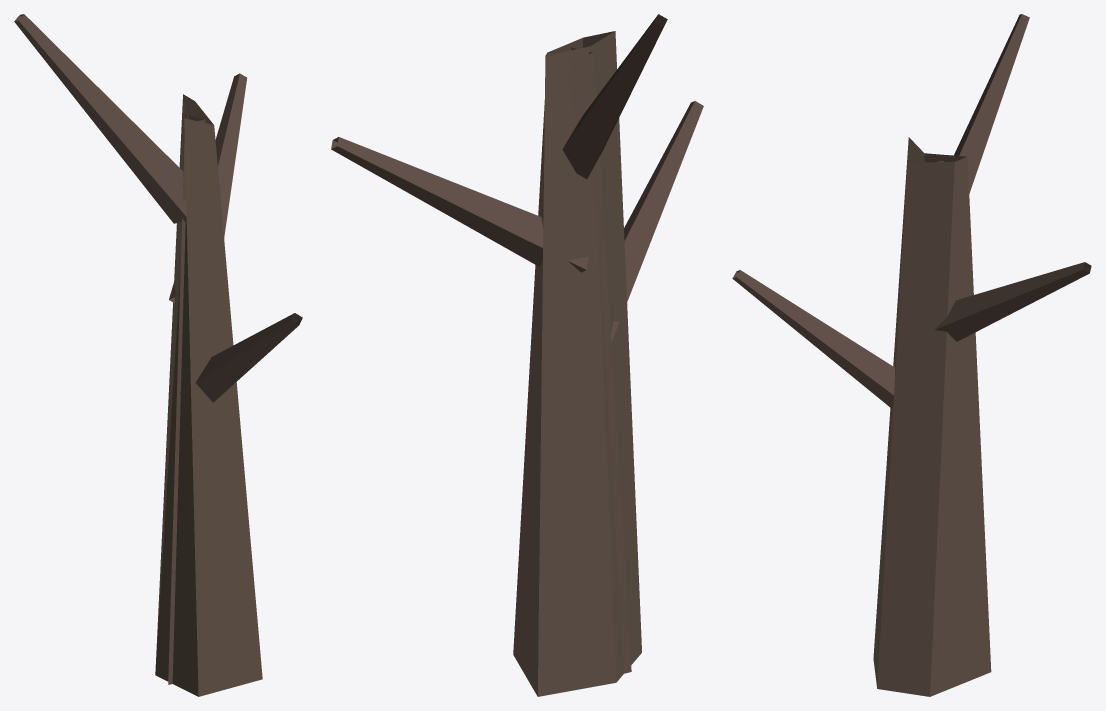
Rendered from tree_dead.glb.
3 views of the same model, side by side, from view 1: azimuth 30°, elevation 25°; view 2: azimuth 150°, elevation 25°; view 3: azimuth 270°, elevation 25° (orthographic). The views are drawn at different scales.
Visible parts, largest first — view 1: trunk, branch2, branch0, branch1, far; view 2: trunk, branch1, far, branch2, branch0; view 3: trunk, branch0, branch1, branch2.
Boxes of the visible parts, box(x1,y1,x2,y2) form: trunk: box(155, 94, 262, 696); branch2: box(14, 14, 186, 223); branch0: box(171, 313, 302, 402); branch1: box(169, 73, 247, 303); far: box(168, 114, 205, 684); trunk: box(513, 31, 641, 696); branch1: box(331, 137, 588, 272); far: box(570, 47, 631, 673); branch2: box(562, 14, 667, 178); branch0: box(600, 101, 703, 367); trunk: box(873, 137, 991, 696); branch0: box(732, 270, 894, 408); branch1: box(935, 262, 1091, 341); branch2: box(954, 14, 1029, 193).
Size of the model in its own units: 0.4518 by 1.06 by 0.5745.
